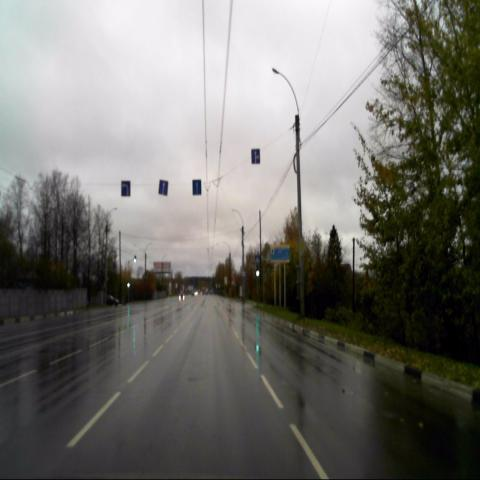2_1: (296, 237, 306, 257)
5_15_2: (120, 180, 131, 199), (158, 179, 168, 197), (192, 178, 202, 196), (251, 148, 260, 165)
